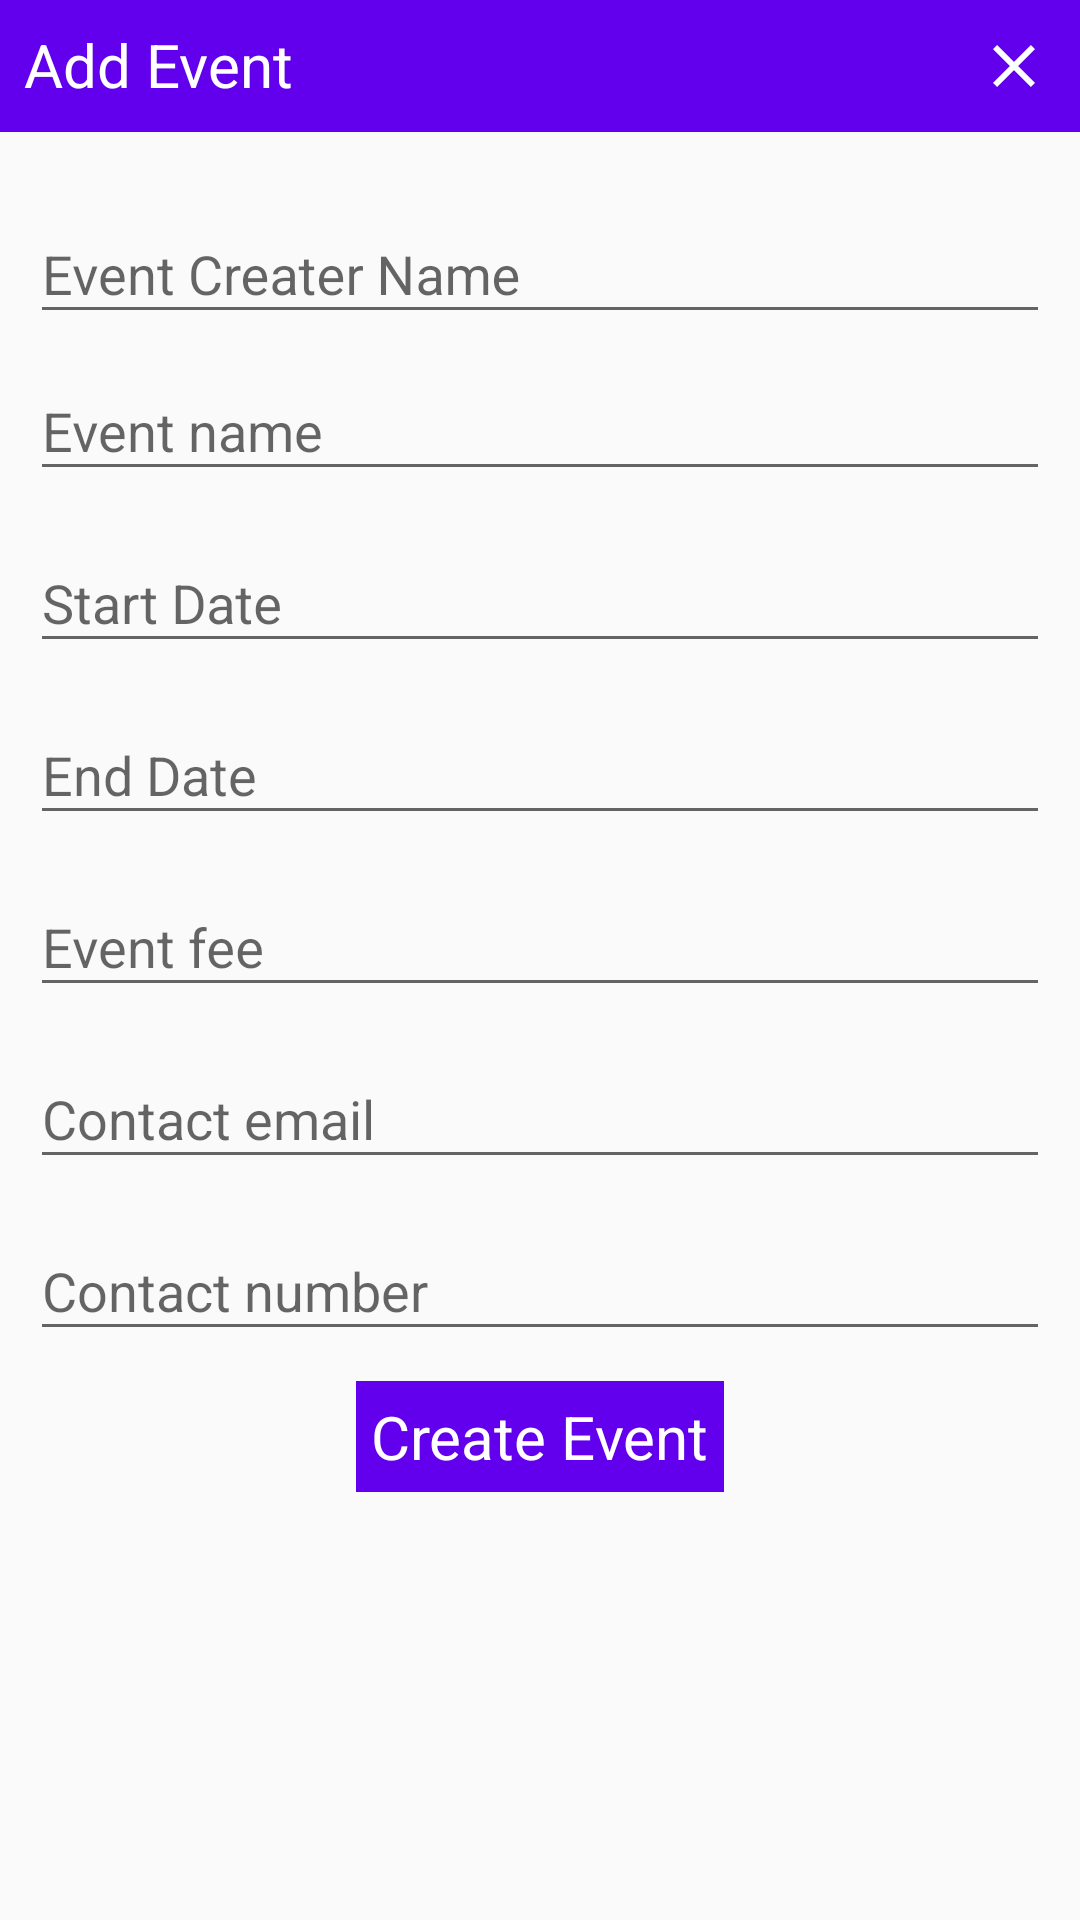

Point at icon controls on the screen. Image size 1080px×1920px, points as (x=x, y=y).
close: (x=1014, y=66)
